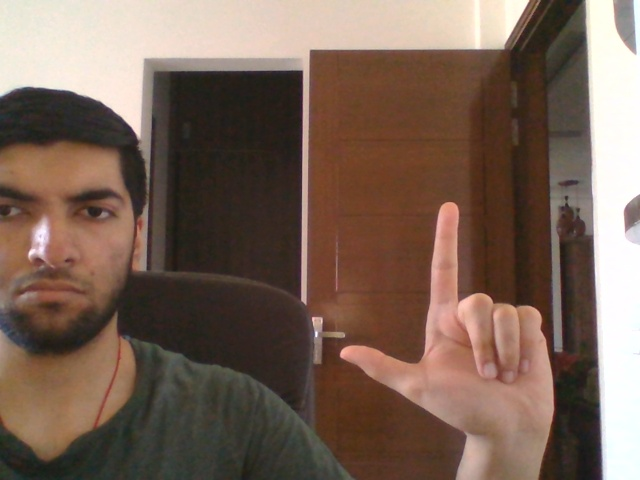LetterL: (338, 201, 555, 439)
